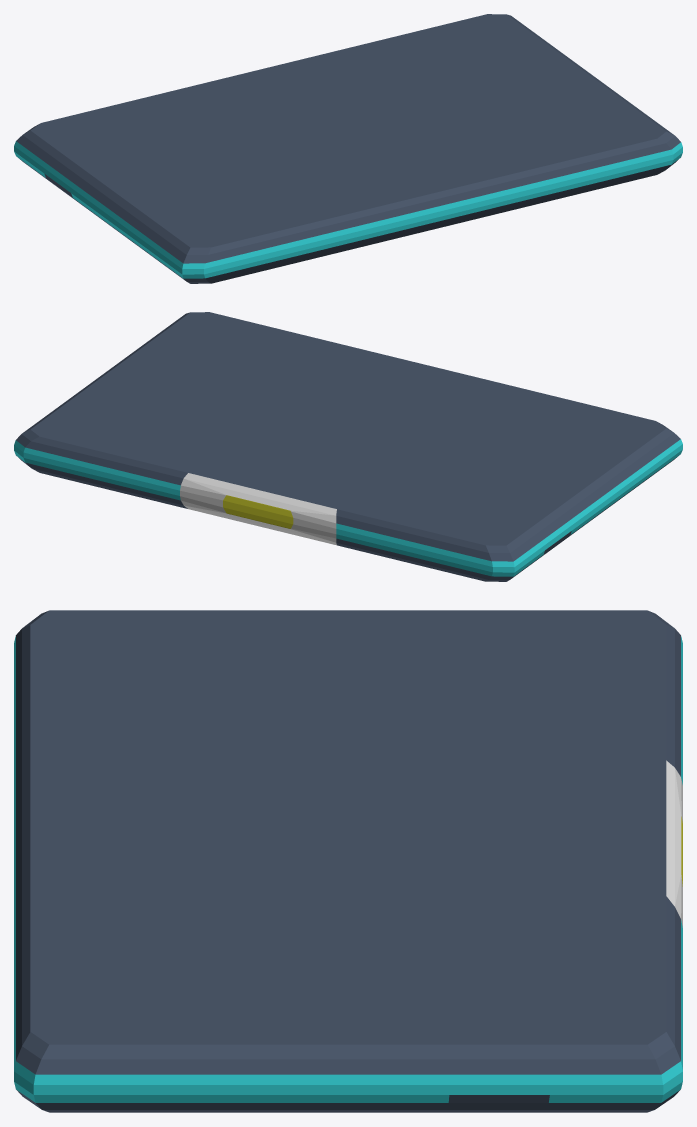
File: Portal.fbx
3 views of the same model, one above another, from view 1: azimuth 30°, elevation 25°; view 2: azimuth 150°, elevation 25°; view 3: azimuth 270°, elevation 25° (orthographic). The views are drawn at different scales.
Parts seen in each view (by area): view 1: Cube.001; view 2: Cube.001; view 3: Cube.001.
Part boxes in pixels (x1,y1,x2,y2): Cube.001: (14, 14, 682, 283); Cube.001: (14, 312, 682, 581); Cube.001: (14, 610, 682, 1112).
Bounding box in the file's own units: 867 × 60 × 537.
